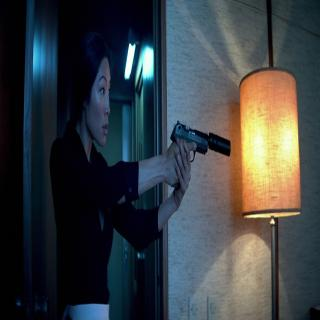gun: (170, 117, 232, 196)
